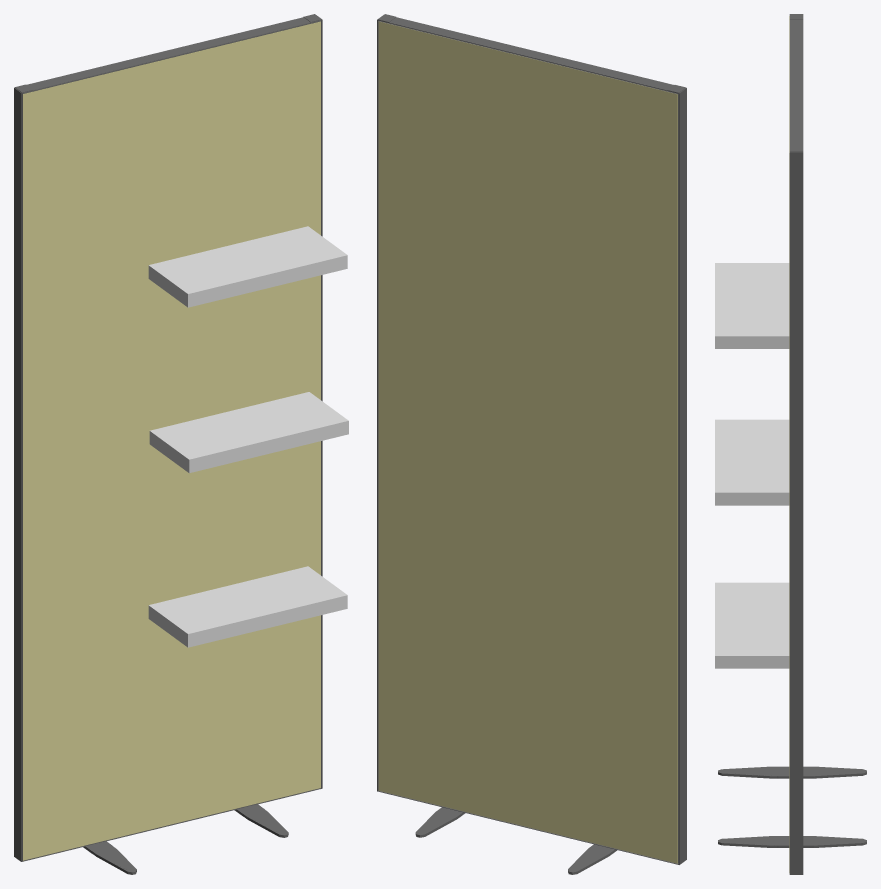
File: Shelves Right.glb
3 renders of one model, left to right at view 1: azimuth 30°, elevation 25°; view 2: azimuth 150°, elevation 25°; view 3: azimuth 270°, elevation 25°, orthographic. The views are drawn at different scales.
Visible parts, largest first — view 1: Standard 38.016, Cube.003, toggle_feet_center.007; view 2: toggle_back_panel.009, Standard 38.016, toggle_feet_center.007; view 3: Cube.003, Standard 38.016, toggle_feet_center.007, toggle_feet_edge.005.
Boxes of the visible parts, box(x1,y1,x2,y2) form: Standard 38.016: box(14, 14, 322, 861); Cube.003: box(148, 226, 348, 647); toggle_feet_center.007: box(83, 804, 284, 869); toggle_back_panel.009: box(378, 21, 677, 863); Standard 38.016: box(377, 14, 686, 864); toggle_feet_center.007: box(415, 807, 617, 874); Cube.003: box(715, 263, 789, 668); Standard 38.016: box(789, 14, 803, 874); toggle_feet_center.007: box(725, 766, 866, 847); toggle_feet_edge.005: box(718, 766, 776, 847).
Bounding box in the file's own units: 0.969 × 2.37 × 0.4503.
